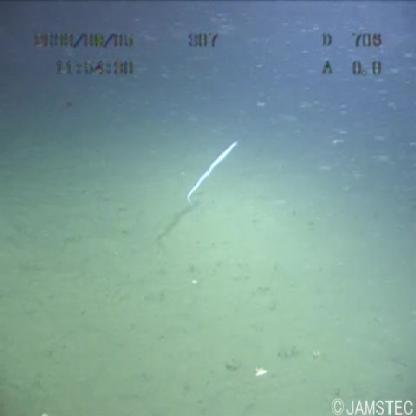Bio: (181, 135, 243, 213)
